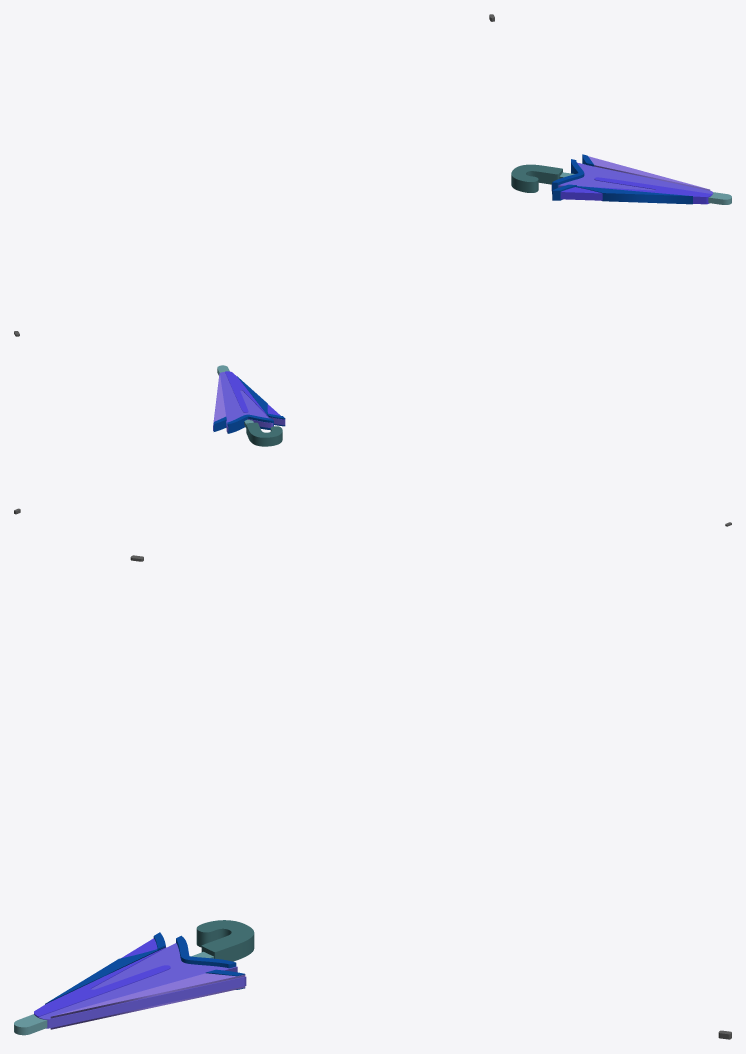
The model's file is emoji_u1f302.glb.
The picture shows the model from 3 angles, top to bottom: view 1: azimuth 30°, elevation 25°; view 2: azimuth 150°, elevation 25°; view 3: azimuth 270°, elevation 25°; orthographic projection. The views are drawn at different scales.
Visible parts, largest first — view 1: emoji_u1f302; view 2: emoji_u1f302; view 3: emoji_u1f302.
Boxes of the visible parts, left/top/right/bottom form: emoji_u1f302: left=14, top=14, right=731, bottom=336; emoji_u1f302: left=14, top=365, right=731, bottom=526; emoji_u1f302: left=14, top=555, right=731, bottom=1039.
Bounding box in the file's own units: 0.1567 × 0.0026 × 0.099.
